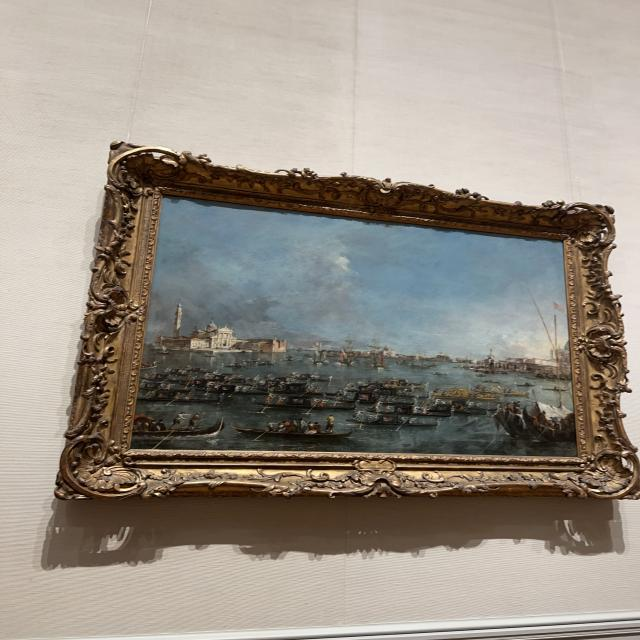ships: (133, 200, 571, 457)
